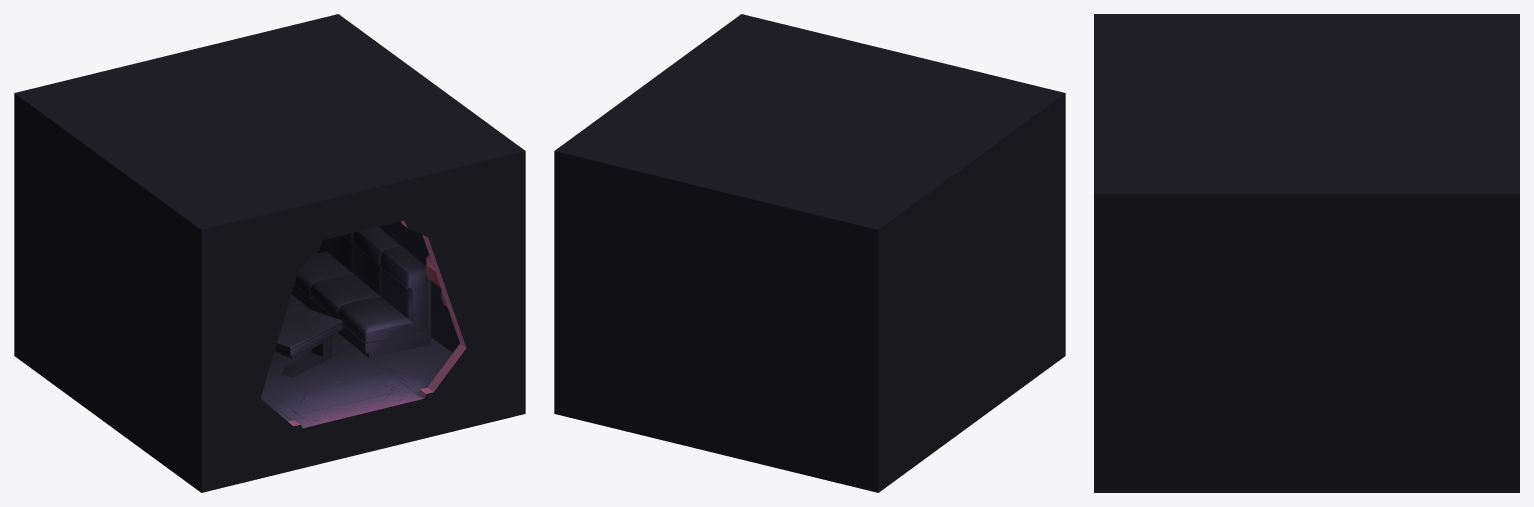
Rendered from mod_special_Kitchen.glb.
The picture shows the model from 3 angles, left to right: view 1: azimuth 30°, elevation 25°; view 2: azimuth 150°, elevation 25°; view 3: azimuth 270°, elevation 25°; orthographic projection. The views are drawn at different scales.
Visible parts, largest first — view 1: Kitchen; view 2: Kitchen; view 3: Kitchen.
Boxes of the visible parts, x1,y1,x2,y2 form: Kitchen: [14, 14, 525, 492]; Kitchen: [554, 14, 1065, 492]; Kitchen: [1094, 14, 1519, 492].
Size of the model in its own units: 5 by 3.88 by 5.
3 materials, 3 textured.
